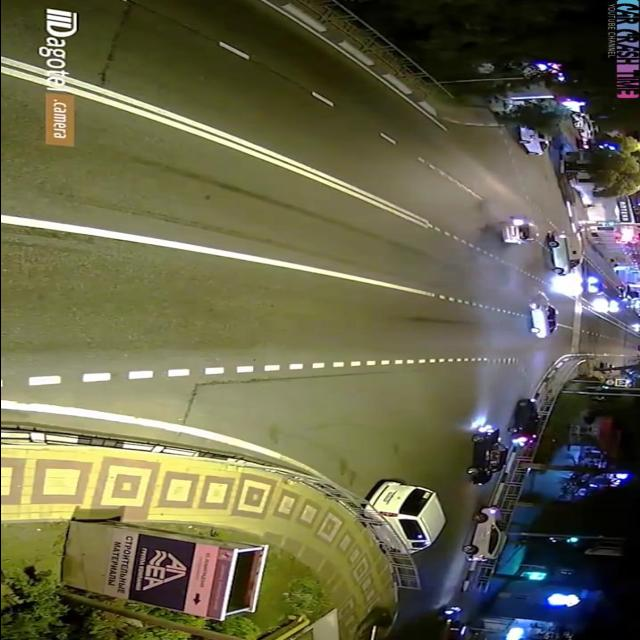accident: (483, 213, 563, 340)
non_accident: (459, 395, 547, 489)
